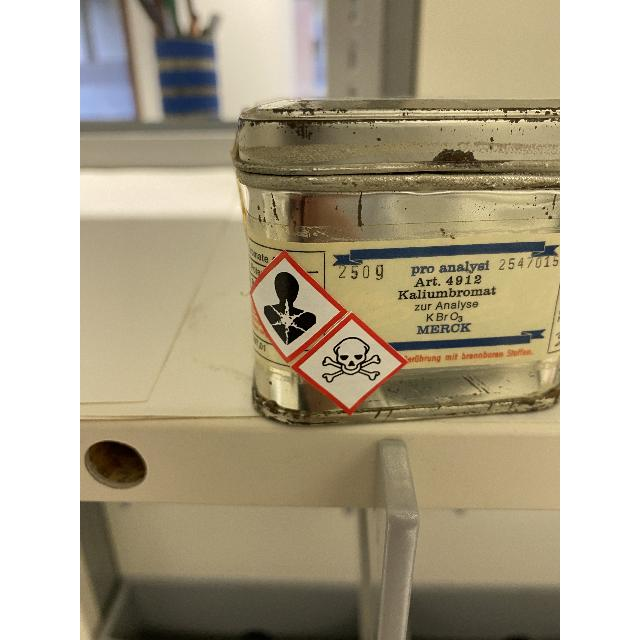acute toxicity: (290, 310, 408, 416)
serious health hazard: (249, 250, 347, 362)
